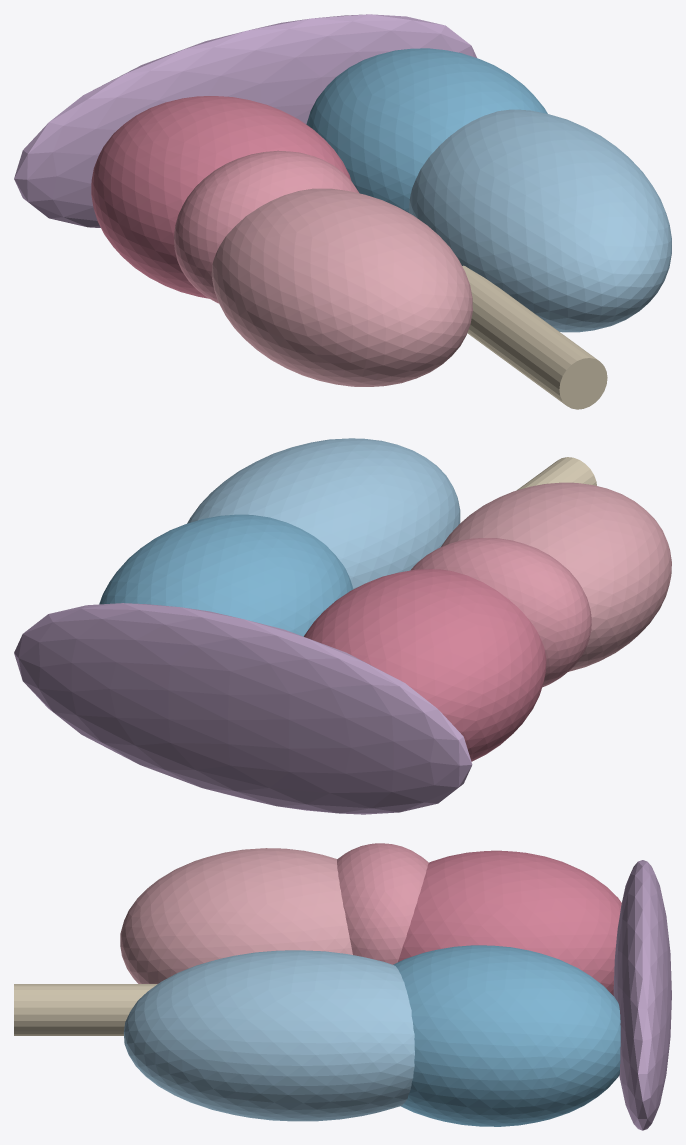
Rendered from lung_educational.glb.
The picture shows the model from 3 angles, top to bottom: view 1: azimuth 30°, elevation 25°; view 2: azimuth 150°, elevation 25°; view 3: azimuth 270°, elevation 25°; orthographic projection. The views are drawn at different scales.
Visible parts, largest first — view 1: Paru Kiri Lobus Atas, Paru Kanan Lobus Atas, Diafragma, Paru Kanan Lobus Bawah, Paru Kiri Lobus Bawah, Paru Kanan Lobus Tengah, Trakea; view 2: Diafragma, Paru Kanan Lobus Bawah, Paru Kiri Lobus Atas, Paru Kiri Lobus Bawah, Paru Kanan Lobus Atas, Paru Kanan Lobus Tengah, Trakea; view 3: Paru Kiri Lobus Atas, Paru Kiri Lobus Bawah, Paru Kanan Lobus Atas, Paru Kanan Lobus Bawah, Diafragma, Paru Kanan Lobus Tengah, Trakea.
Part boxes in pixels (box(x1,y1,x2,y2)): Paru Kiri Lobus Atas: box(409, 109, 671, 332); Paru Kanan Lobus Atas: box(211, 188, 472, 386); Diafragma: box(14, 14, 476, 227); Paru Kanan Lobus Bawah: box(91, 96, 351, 298); Paru Kiri Lobus Bawah: box(306, 48, 547, 213); Paru Kanan Lobus Tengah: box(174, 150, 358, 303); Trakea: box(462, 265, 607, 409); Diafragma: box(14, 603, 472, 814); Paru Kanan Lobus Bawah: box(304, 569, 546, 761); Paru Kiri Lobus Atas: box(187, 438, 460, 589); Paru Kiri Lobus Bawah: box(99, 514, 353, 636); Paru Kanan Lobus Atas: box(441, 482, 671, 671); Paru Kanan Lobus Tengah: box(410, 538, 591, 687); Trakea: box(516, 457, 596, 490); Paru Kiri Lobus Atas: box(123, 950, 414, 1121); Paru Kiri Lobus Bawah: box(393, 945, 620, 1126); Paru Kanan Lobus Atas: box(120, 848, 352, 983); Paru Kanan Lobus Bawah: box(398, 850, 621, 995); Diafragma: box(613, 860, 671, 1130); Paru Kanan Lobus Tengah: box(337, 843, 428, 964); Trakea: box(14, 984, 157, 1035).
Bounding box in the file's own units: 3.1 × 1.17 × 4.05.
